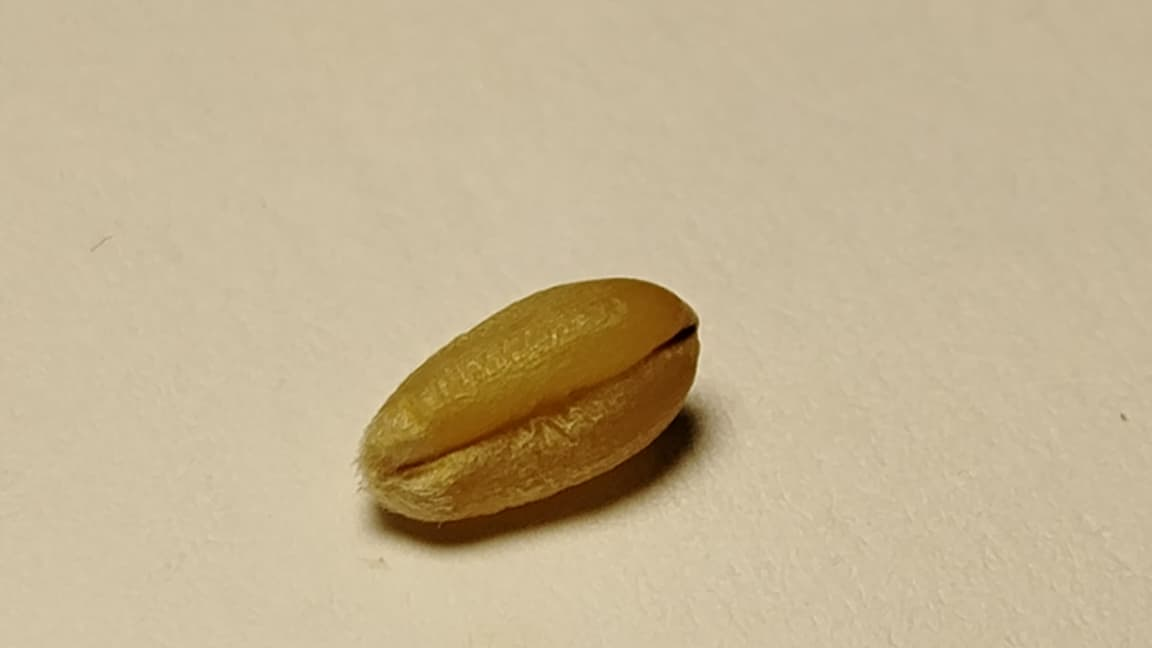healthy: (357, 276, 699, 522)
